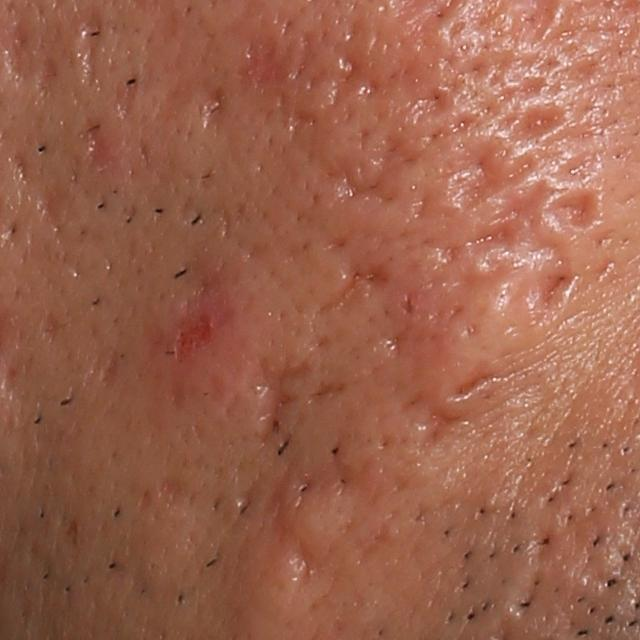atrophic_scar: (431, 134, 542, 219), (464, 181, 576, 264), (324, 123, 414, 206), (258, 358, 323, 447), (308, 257, 383, 325), (547, 185, 619, 244), (444, 358, 534, 405), (237, 32, 294, 95), (501, 102, 568, 146), (530, 262, 572, 325), (413, 413, 474, 456), (73, 8, 102, 97), (318, 54, 368, 101), (80, 118, 118, 173), (195, 82, 234, 125), (41, 182, 72, 227), (35, 52, 63, 100), (291, 543, 320, 584), (306, 378, 348, 404), (3, 148, 32, 182), (100, 352, 124, 391), (158, 473, 183, 503), (42, 316, 63, 339)
hypertrophic_scar: (276, 483, 360, 563)
